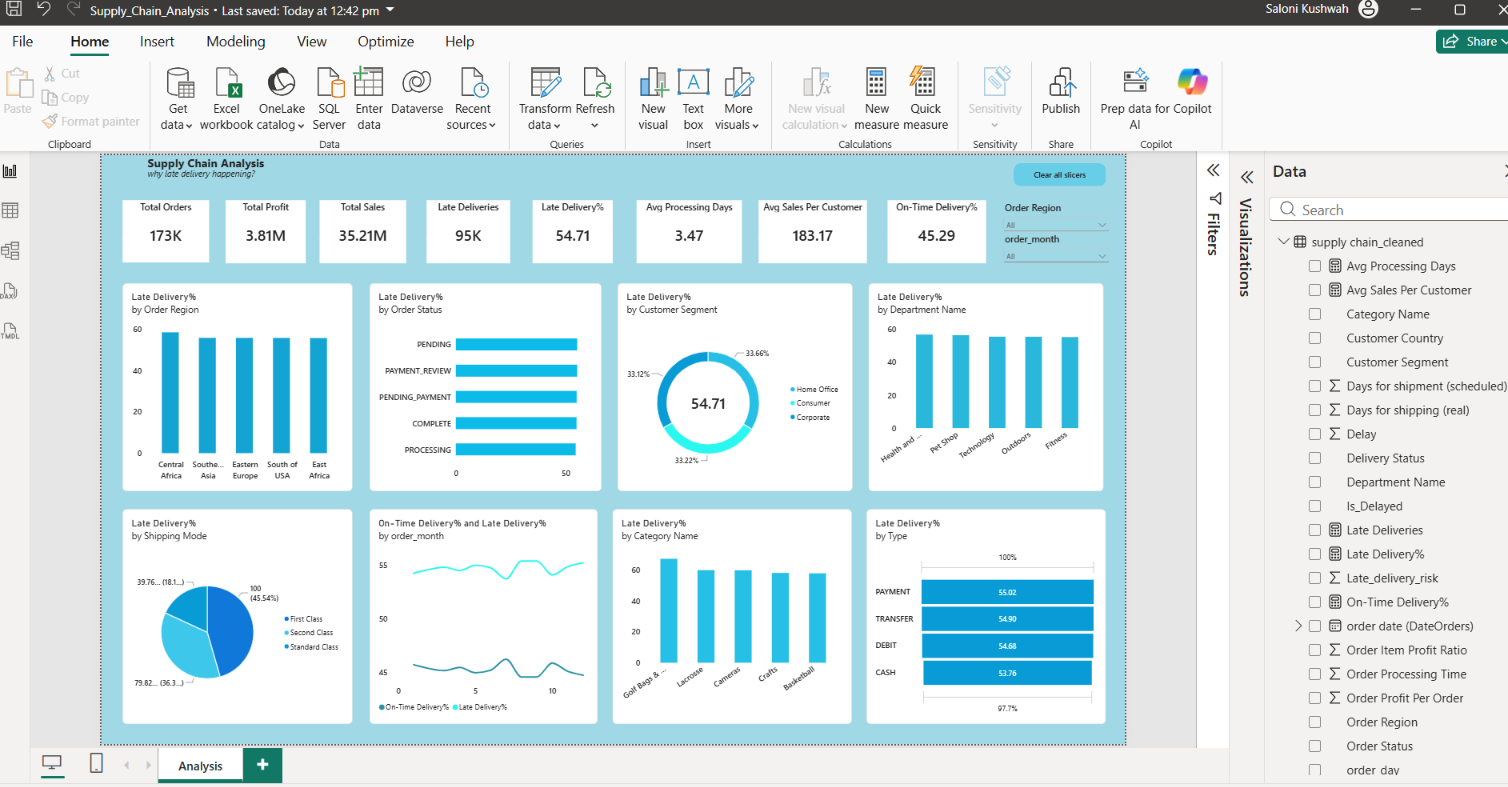

What the dashboard file says about the page in this screenshot:
{"tool":"powerbi","page":{"name":"Analysis","canvas":[1920,1105],"ordinal":0},"visuals":[{"type":"lineStackedColumnComboChart","fields":{"Category":["supply chain_cleaned.Order Region"],"Y":["supply chain_cleaned.Late Delivery%"]},"box":[39.6,239.3,431.6,390.1],"z":0},{"type":"donutChart","fields":{"Category":["supply chain_cleaned.Customer Segment"],"Y":["supply chain_cleaned.Late Delivery%"]},"box":[968.7,239.3,441,390.1],"z":1},{"type":"pieChart","fields":{"Category":["supply chain_cleaned.Shipping Mode"],"Y":["supply chain_cleaned.Late Delivery%"]},"box":[39.6,665.3,431.6,403.3],"z":2},{"type":"barChart","fields":{"Category":["supply chain_cleaned.Order Status"],"Y":["supply chain_cleaned.Late Delivery%"]},"box":[503.2,239.3,435.3,390.1],"z":3},{"type":"funnel","fields":{"Category":["supply chain_cleaned.Type"],"Y":["supply chain_cleaned.Late Delivery%"]},"box":[1436,665.3,448.5,403.3],"z":4},{"type":"lineClusteredColumnComboChart","fields":{"Category":["supply chain_cleaned.Department Name"],"Y":["supply chain_cleaned.Late Delivery%"]},"box":[1439.8,239.3,441,390.1],"z":5},{"type":"cardVisual","title":"Total Orders","fields":{"Data":["supply chain_cleaned.Total Orders"]},"box":[39.6,84.8,162.1,116.8],"z":6},{"type":"cardVisual","title":"Total Profit","fields":{"Data":["supply chain_cleaned.Total Profit"]},"box":[231.8,84.8,150.8,118.7],"z":7},{"type":"cardVisual","title":"Total Sales","fields":{"Data":["supply chain_cleaned.Total Sales"]},"box":[409,84.8,162.1,118.7],"z":8},{"type":"cardVisual","title":"Late Deliveries","fields":{"Data":["supply chain_cleaned.Late Deliveries"]},"box":[610.6,84.8,156.4,118.7],"z":9},{"type":"cardVisual","title":"Late Delivery%","fields":{"Data":["supply chain_cleaned.Late Delivery%"]},"box":[808.5,84.8,150.8,118.7],"z":10},{"type":"cardVisual","title":"Avg Processing Days","fields":{"Data":["supply chain_cleaned.Avg Processing Days"]},"box":[1004.5,84.8,197.9,118.7],"z":11},{"type":"cardVisual","title":"Avg Sales Per Customer","fields":{"Data":["supply chain_cleaned.Avg Sales Per Customer"]},"box":[1232.5,84.8,203.5,118.7],"z":12},{"type":"cardVisual","title":"On-Time Delivery%","fields":{"Data":["supply chain_cleaned.On-Time Delivery%"]},"box":[1475.6,84.8,184.7,118],"z":14},{"type":"slicer","fields":{"Values":["supply chain_cleaned.Order Region"]},"box":[1686.7,86.7,209.2,60.3],"z":15},{"type":"slicer","fields":{"Values":["supply chain_cleaned.order_month"]},"box":[1686.7,145.1,209.2,64.1],"z":16},{"type":"textbox","box":[86.7,0,220.5,39.6],"z":17},{"type":"textbox","box":[86.7,22.6,273.3,35.8],"z":18},{"type":"lineChart","fields":{"Category":["supply chain_cleaned.order_month"],"Y":["supply chain_cleaned.On-Time Delivery%","supply chain_cleaned.Late Delivery%"]},"box":[503.2,665.3,427.8,403.3],"z":19},{"type":"lineStackedColumnComboChart","fields":{"Category":["supply chain_cleaned.Category Name"],"Y":["supply chain_cleaned.Late Delivery%"]},"box":[959.2,665.3,448.5,403.3],"z":20},{"type":"actionButton","box":[1711.2,15.1,173.4,43.3],"z":21}]}

Visuals, with their boxes on the page's 1920x1105 design canvas (x1, y1, x2, y2). These are canvas units, not pixel positions in the 1508x787 screenshot, which may show the page scaled, cropped or inside an application window:
lineStackedColumnComboChart - supply chain_cleaned.Order Region x supply chain_cleaned.Late Delivery%: select_region(40, 239, 471, 629)
donutChart - supply chain_cleaned.Customer Segment x supply chain_cleaned.Late Delivery%: select_region(969, 239, 1410, 629)
pieChart - supply chain_cleaned.Shipping Mode x supply chain_cleaned.Late Delivery%: select_region(40, 665, 471, 1069)
barChart - supply chain_cleaned.Order Status x supply chain_cleaned.Late Delivery%: select_region(503, 239, 938, 629)
funnel - supply chain_cleaned.Type x supply chain_cleaned.Late Delivery%: select_region(1436, 665, 1884, 1069)
lineClusteredColumnComboChart - supply chain_cleaned.Department Name x supply chain_cleaned.Late Delivery%: select_region(1440, 239, 1881, 629)
"Total Orders" cardVisual: select_region(40, 85, 202, 202)
"Total Profit" cardVisual: select_region(232, 85, 383, 204)
"Total Sales" cardVisual: select_region(409, 85, 571, 204)
"Late Deliveries" cardVisual: select_region(611, 85, 767, 204)
"Late Delivery%" cardVisual: select_region(808, 85, 959, 204)
"Avg Processing Days" cardVisual: select_region(1004, 85, 1202, 204)
"Avg Sales Per Customer" cardVisual: select_region(1232, 85, 1436, 204)
"On-Time Delivery%" cardVisual: select_region(1476, 85, 1660, 203)
slicer - supply chain_cleaned.Order Region: select_region(1687, 87, 1896, 147)
slicer - supply chain_cleaned.order_month: select_region(1687, 145, 1896, 209)
textbox: select_region(87, 0, 307, 40)
textbox: select_region(87, 23, 360, 58)
lineChart - supply chain_cleaned.order_month x supply chain_cleaned.On-Time Delivery%: select_region(503, 665, 931, 1069)
lineStackedColumnComboChart - supply chain_cleaned.Category Name x supply chain_cleaned.Late Delivery%: select_region(959, 665, 1408, 1069)
actionButton: select_region(1711, 15, 1885, 58)
